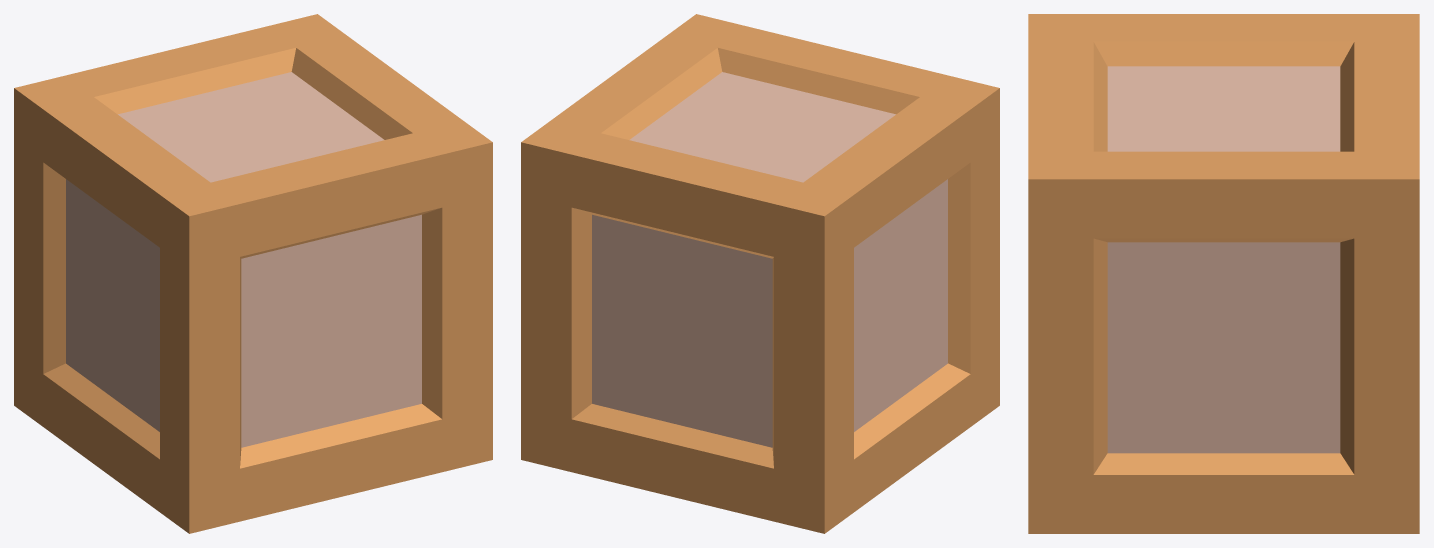
The model's file is wackbox.fbx.
3 renders of one model, left to right at view 1: azimuth 30°, elevation 25°; view 2: azimuth 150°, elevation 25°; view 3: azimuth 270°, elevation 25°, orthographic. The views are drawn at different scales.
Parts seen in each view (by area): view 1: Cube; view 2: Cube; view 3: Cube.
Boxes of the visible parts, x1,y1,x2,y2 form: Cube: (14,14,492,533); Cube: (521,14,999,533); Cube: (1028,14,1419,533).
Bounding box in the file's own units: 200 × 200 × 200.
